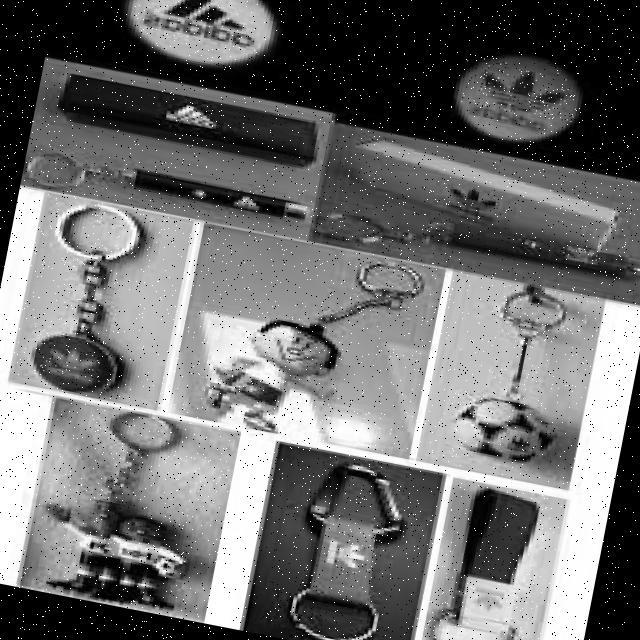Adidas: (459, 56, 582, 124), (31, 329, 111, 387), (436, 171, 511, 224), (320, 527, 383, 586), (559, 238, 606, 266)
